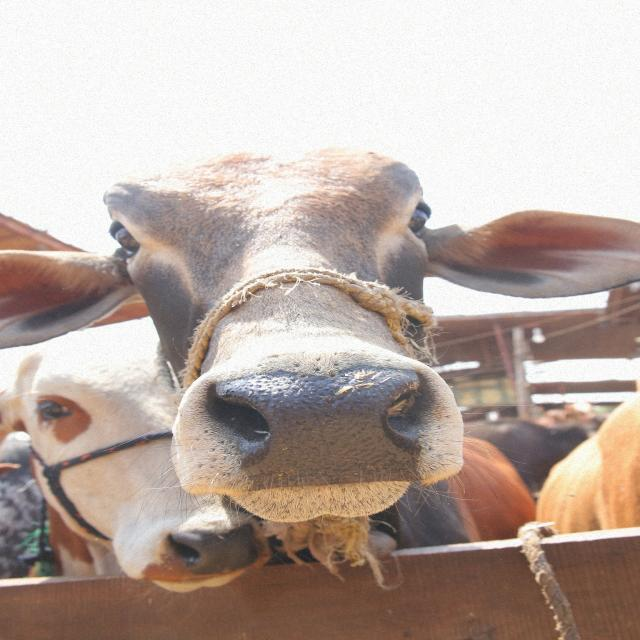muzzles: (190, 361, 442, 495), (160, 520, 268, 580)
